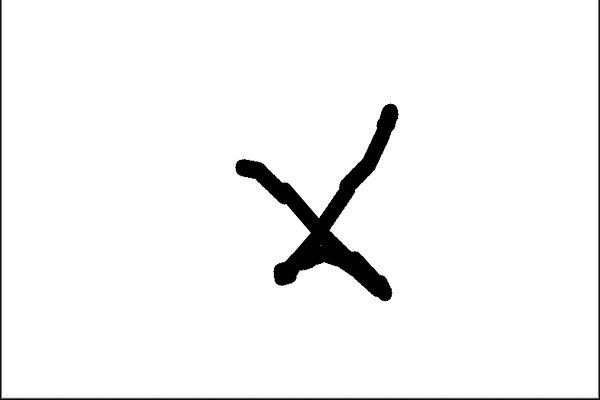X: (225, 94, 416, 314)
